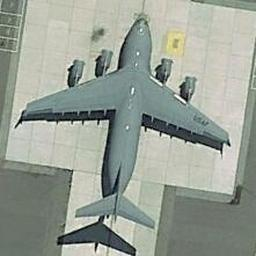Airplane: (13, 12, 231, 229)
